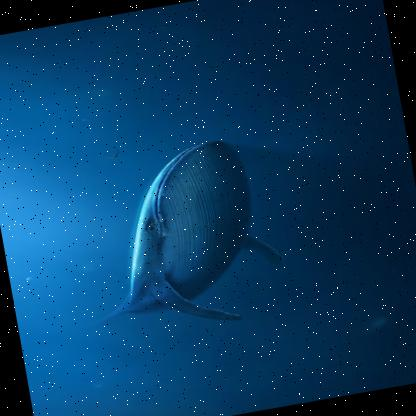blue_whale: (48, 110, 327, 348)
